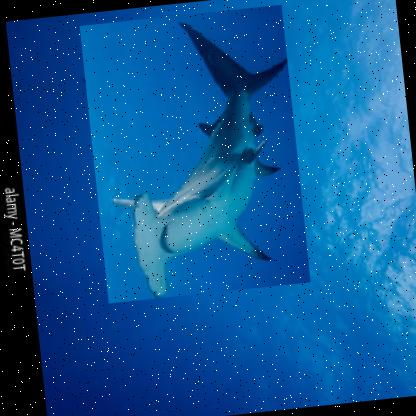hammerhead_Shark: (78, 3, 310, 303)
